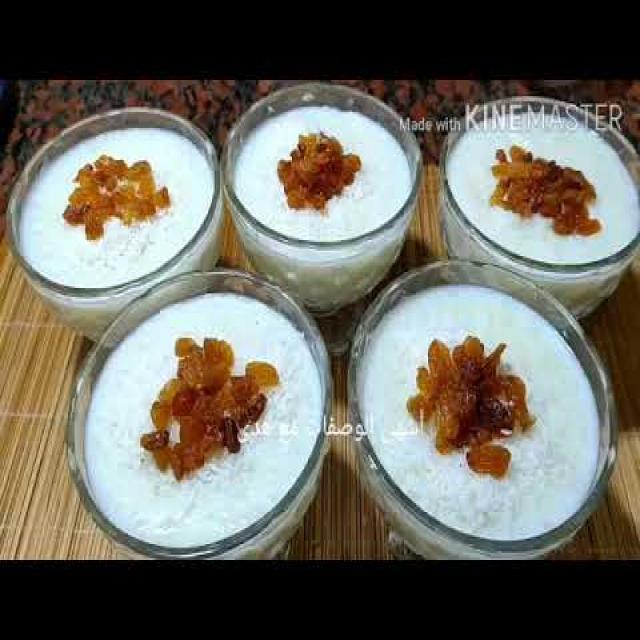roz blabn: (358, 277, 608, 549), (80, 293, 318, 557), (441, 102, 640, 278), (19, 121, 210, 295), (228, 101, 414, 273)
